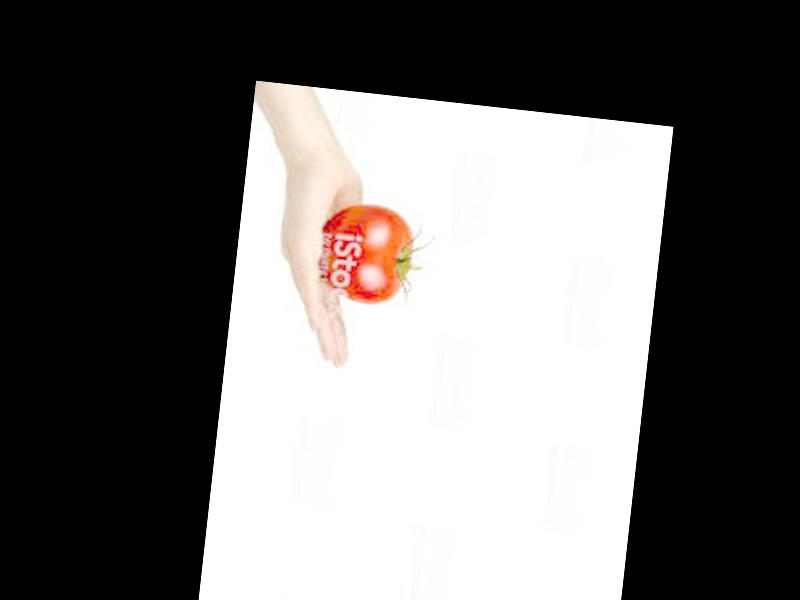Tomato: (317, 199, 419, 306)
